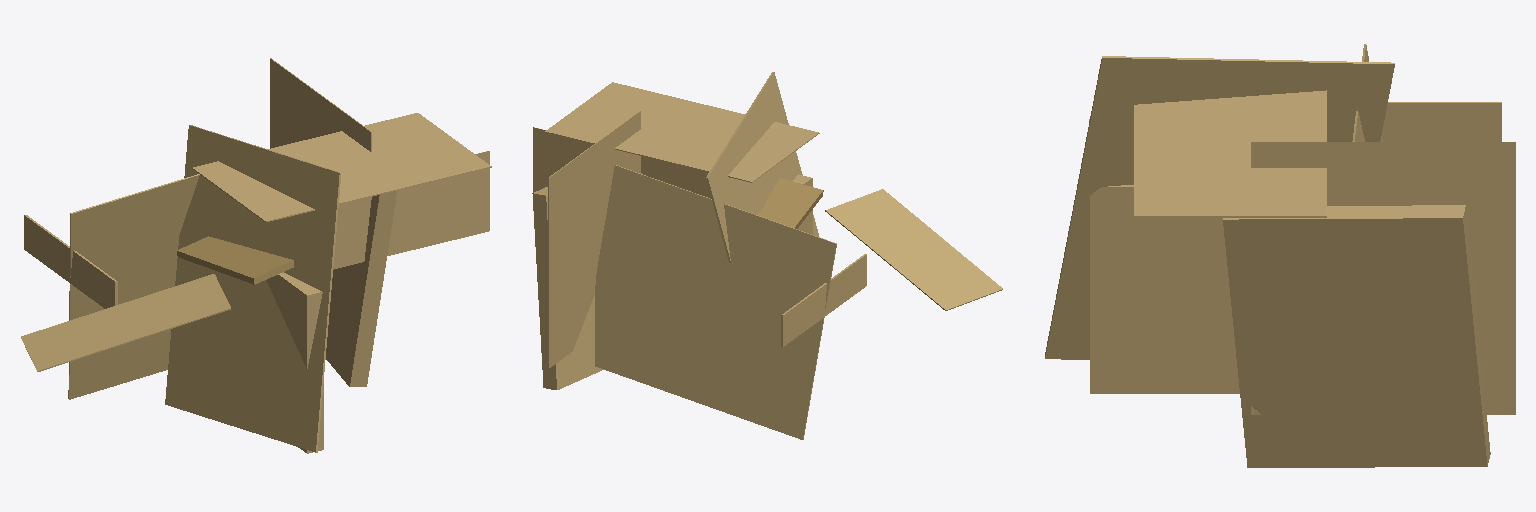
The robot description file, URDF, robot "evolved_design":
<?xml version="1.0" ?>
<robot name="evolved_design">
  <link name="base_link">
    <inertial>
      <mass value="0.001"/>
      <origin xyz="0 0 0" rpy="0 0 0"/>
      <inertia ixx="0.000001" ixy="0" ixz="0" iyy="0.000001" iyz="0" izz="0.000001"/>
    </inertial>
  </link>
  <link name="link_comp_0">
    <inertial>
      <mass value="8.880982"/>
      <origin xyz="0 0 0" rpy="0 0 0"/>
      <inertia ixx="0.393810808" ixy="0" ixz="0" iyy="0.161316370" iyz="0" izz="0.236194847"/>
    </inertial>
    <visual>
      <origin xyz="0 0 0" rpy="0 0 0"/>
      <geometry>
        <box size="0.050000 0.562714 0.464189"/>
      </geometry>
      <material name="link_comp_0_material">
        <color rgba="0.8 0.7 0.5 1"/>
      </material>
    </visual>
    <collision>
      <origin xyz="0 0 0" rpy="0 0 0"/>
      <geometry>
        <box size="0.050000 0.562714 0.464189"/>
      </geometry>
    </collision>
  </link>
  <joint name="base_link_to_link_comp_0" type="fixed">
    <parent link="base_link"/>
    <child link="link_comp_0"/>
    <origin xyz="0.025000 0.281357 0.232094" rpy="0.000000 0.000000 0.000000"/>
  </joint>
  <link name="link_comp_1">
    <inertial>
      <mass value="1.500321"/>
      <origin xyz="0 0 0" rpy="0 0 0"/>
      <inertia ixx="0.046464279" ixy="0" ixz="0" iyy="0.119057487" iyz="0" izz="0.072598849"/>
    </inertial>
    <visual>
      <origin xyz="0 0 0" rpy="0 0 0"/>
      <geometry>
        <box size="0.762000 0.004750 0.609600"/>
      </geometry>
      <material name="link_comp_1_material">
        <color rgba="0.8 0.7 0.5 1"/>
      </material>
    </visual>
    <collision>
      <origin xyz="0 0 0" rpy="0 0 0"/>
      <geometry>
        <box size="0.762000 0.004750 0.609600"/>
      </geometry>
    </collision>
  </link>
  <joint name="base_link_to_link_comp_1" type="fixed">
    <parent link="base_link"/>
    <child link="link_comp_1"/>
    <origin xyz="0.002716 0.593974 0.304800" rpy="0.172228 -0.081890 -0.040996"/>
  </joint>
  <link name="link_comp_2">
    <inertial>
      <mass value="0.212601"/>
      <origin xyz="0 0 0" rpy="0 0 0"/>
      <inertia ixx="0.004343697" ixy="0" ixz="0" iyy="0.000183588" iyz="0" izz="0.004161537"/>
    </inertial>
    <visual>
      <origin xyz="0 0 0" rpy="0 0 0"/>
      <geometry>
        <box size="0.006350 0.484616 0.101598"/>
      </geometry>
      <material name="link_comp_2_material">
        <color rgba="0.8 0.7 0.5 1"/>
      </material>
    </visual>
    <collision>
      <origin xyz="0 0 0" rpy="0 0 0"/>
      <geometry>
        <box size="0.006350 0.484616 0.101598"/>
      </geometry>
    </collision>
  </link>
  <joint name="base_link_to_link_comp_2" type="fixed">
    <parent link="base_link"/>
    <child link="link_comp_2"/>
    <origin xyz="-0.381959 0.594301 0.401203" rpy="0.000000 0.000000 0.000000"/>
  </joint>
  <link name="link_comp_3">
    <inertial>
      <mass value="0.667781"/>
      <origin xyz="0 0 0" rpy="0 0 0"/>
      <inertia ixx="0.036755775" ixy="0" ixz="0" iyy="0.020680131" iyz="0" izz="0.016076644"/>
    </inertial>
    <visual>
      <origin xyz="0 0 0" rpy="0 0 0"/>
      <geometry>
        <box size="0.002997 0.537483 0.609600"/>
      </geometry>
      <material name="link_comp_3_material">
        <color rgba="0.8 0.7 0.5 1"/>
      </material>
    </visual>
    <collision>
      <origin xyz="0 0 0" rpy="0 0 0"/>
      <geometry>
        <box size="0.002997 0.537483 0.609600"/>
      </geometry>
    </collision>
  </link>
  <joint name="base_link_to_link_comp_3" type="fixed">
    <parent link="base_link"/>
    <child link="link_comp_3"/>
    <origin xyz="0.385714 0.594703 0.416882" rpy="0.000000 0.000000 0.000000"/>
  </joint>
  <link name="link_comp_4">
    <inertial>
      <mass value="0.282292"/>
      <origin xyz="0 0 0" rpy="0 0 0"/>
      <inertia ixx="0.001167199" ixy="0" ixz="0" iyy="0.006951142" iyz="0" izz="0.008117788"/>
    </inertial>
    <visual>
      <origin xyz="0 0 0" rpy="0 0 0"/>
      <geometry>
        <box size="0.543576 0.222721 0.003429"/>
      </geometry>
      <material name="link_comp_4_material">
        <color rgba="0.8 0.7 0.5 1"/>
      </material>
    </visual>
    <collision>
      <origin xyz="0 0 0" rpy="0 0 0"/>
      <geometry>
        <box size="0.543576 0.222721 0.003429"/>
      </geometry>
    </collision>
  </link>
  <joint name="base_link_to_link_comp_4" type="fixed">
    <parent link="base_link"/>
    <child link="link_comp_4"/>
    <origin xyz="-0.448103 0.186631 0.413080" rpy="0.000000 -0.253033 -0.321895"/>
  </joint>
  <link name="link_comp_5">
    <inertial>
      <mass value="0.116365"/>
      <origin xyz="0 0 0" rpy="0 0 0"/>
      <inertia ixx="0.000540517" ixy="0" ixz="0" iyy="0.005635044" iyz="0" izz="0.005094546"/>
    </inertial>
    <visual>
      <origin xyz="0 0 0" rpy="0 0 0"/>
      <geometry>
        <box size="0.724823 0.001000 0.236092"/>
      </geometry>
      <material name="link_comp_5_material">
        <color rgba="0.8 0.7 0.5 1"/>
      </material>
    </visual>
    <collision>
      <origin xyz="0 0 0" rpy="0 0 0"/>
      <geometry>
        <box size="0.724823 0.001000 0.236092"/>
      </geometry>
    </collision>
  </link>
  <joint name="base_link_to_link_comp_5" type="fixed">
    <parent link="base_link"/>
    <child link="link_comp_5"/>
    <origin xyz="0.385658 0.325080 0.465255" rpy="0.000000 0.000000 0.000000"/>
  </joint>
  <link name="link_comp_6">
    <inertial>
      <mass value="9.933636"/>
      <origin xyz="0 0 0" rpy="0 0 0"/>
      <inertia ixx="0.492038148" ixy="0" ixz="0" iyy="0.293157575" iyz="0" izz="0.203019588"/>
    </inertial>
    <visual>
      <origin xyz="0 0 0" rpy="0 0 0"/>
      <geometry>
        <box size="0.050000 0.492698 0.592992"/>
      </geometry>
      <material name="link_comp_6_material">
        <color rgba="0.8 0.7 0.5 1"/>
      </material>
    </visual>
    <collision>
      <origin xyz="0 0 0" rpy="0 0 0"/>
      <geometry>
        <box size="0.050000 0.492698 0.592992"/>
      </geometry>
    </collision>
  </link>
  <joint name="base_link_to_link_comp_6" type="fixed">
    <parent link="base_link"/>
    <child link="link_comp_6"/>
    <origin xyz="0.409216 0.541428 0.296496" rpy="0.069787 0.121281 -0.126473"/>
  </joint>
  <link name="link_comp_7">
    <inertial>
      <mass value="2.005777"/>
      <origin xyz="0 0 0" rpy="0 0 0"/>
      <inertia ixx="0.159167763" ixy="0" ixz="0" iyy="0.097060254" iyz="0" izz="0.062120989"/>
    </inertial>
    <visual>
      <origin xyz="0 0 0" rpy="0 0 0"/>
      <geometry>
        <box size="0.006350 0.609600 0.762000"/>
      </geometry>
      <material name="link_comp_7_material">
        <color rgba="0.8 0.7 0.5 1"/>
      </material>
    </visual>
    <collision>
      <origin xyz="0 0 0" rpy="0 0 0"/>
      <geometry>
        <box size="0.006350 0.609600 0.762000"/>
      </geometry>
    </collision>
  </link>
  <joint name="base_link_to_link_comp_7" type="fixed">
    <parent link="base_link"/>
    <child link="link_comp_7"/>
    <origin xyz="-0.013609 0.263676 0.381000" rpy="-0.119084 0.211127 0.174577"/>
  </joint>
  <link name="link_comp_8">
    <inertial>
      <mass value="1.105250"/>
      <origin xyz="0 0 0" rpy="0 0 0"/>
      <inertia ixx="0.010932444" ixy="0" ixz="0" iyy="0.005699530" iyz="0" izz="0.016565124"/>
    </inertial>
    <visual>
      <origin xyz="0 0 0" rpy="0 0 0"/>
      <geometry>
        <box size="0.248029 0.343997 0.019050"/>
      </geometry>
      <material name="link_comp_8_material">
        <color rgba="0.7 0.6 0.4 1"/>
      </material>
    </visual>
    <collision>
      <origin xyz="0 0 0" rpy="0 0 0"/>
      <geometry>
        <box size="0.248029 0.343997 0.019050"/>
      </geometry>
    </collision>
  </link>
  <joint name="base_link_to_link_comp_8" type="fixed">
    <parent link="base_link"/>
    <child link="link_comp_8"/>
    <origin xyz="0.002248 0.295550 0.474214" rpy="-0.133479 -0.105793 0.133765"/>
  </joint>
  <link name="link_comp_9">
    <inertial>
      <mass value="0.630815"/>
      <origin xyz="0 0 0" rpy="0 0 0"/>
      <inertia ixx="0.008021506" ixy="0" ixz="0" iyy="0.025216287" iyz="0" izz="0.033236557"/>
    </inertial>
    <visual>
      <origin xyz="0 0 0" rpy="0 0 0"/>
      <geometry>
        <box size="0.692588 0.390617 0.003429"/>
      </geometry>
      <material name="link_comp_9_material">
        <color rgba="0.8 0.7 0.5 1"/>
      </material>
    </visual>
    <collision>
      <origin xyz="0 0 0" rpy="0 0 0"/>
      <geometry>
        <box size="0.692588 0.390617 0.003429"/>
      </geometry>
    </collision>
  </link>
  <joint name="base_link_to_link_comp_9" type="fixed">
    <parent link="base_link"/>
    <child link="link_comp_9"/>
    <origin xyz="0.270858 0.285475 0.661032" rpy="0.000000 0.000000 0.000000"/>
  </joint>
</robot>

--- Render facts (derived) ---
3 views of the same robot in one strip: view 1: azimuth 30°, elevation 25°; view 2: azimuth 150°, elevation 25°; view 3: azimuth 270°, elevation 25° (orthographic).
Model evolved_design with 11 links and 10 joints (10 fixed), rooted at base_link, posed all joints at 0.
Links seen in each view (by area): view 1: link_comp_7, link_comp_1, link_comp_9, link_comp_5, link_comp_4, link_comp_6, link_comp_3, link_comp_2, link_comp_8, link_comp_0; view 2: link_comp_1, link_comp_9, link_comp_3, link_comp_4, link_comp_7, link_comp_6, link_comp_5, link_comp_2, link_comp_8; view 3: link_comp_6, link_comp_0, link_comp_7, link_comp_3, link_comp_9, link_comp_2.
Boxes of the visible links, x1,y1,x2,y2 form: link_comp_7: (165, 125, 340, 452); link_comp_1: (68, 174, 199, 399); link_comp_9: (192, 113, 491, 221); link_comp_5: (333, 151, 489, 269); link_comp_4: (21, 274, 230, 371); link_comp_6: (326, 191, 396, 386); link_comp_3: (270, 58, 371, 151); link_comp_2: (24, 215, 117, 308); link_comp_8: (177, 236, 293, 284); link_comp_0: (266, 272, 323, 453); link_comp_1: (595, 165, 836, 439); link_comp_9: (545, 82, 819, 182); link_comp_3: (548, 110, 640, 368); link_comp_4: (825, 189, 1002, 310); link_comp_7: (706, 72, 818, 262); link_comp_6: (532, 173, 641, 389); link_comp_5: (533, 127, 710, 198); link_comp_2: (781, 254, 866, 346); link_comp_8: (758, 178, 823, 228); link_comp_6: (1223, 205, 1490, 467); link_comp_0: (1090, 185, 1239, 393); link_comp_7: (1045, 56, 1394, 359); link_comp_3: (1251, 142, 1515, 414); link_comp_9: (1134, 90, 1326, 217); link_comp_2: (1382, 102, 1501, 141).
Size in the robot's own frame: 1.48 by 0.9554 by 0.813 metres.
Geometry: primitives only (box / cylinder / sphere), no mesh files.